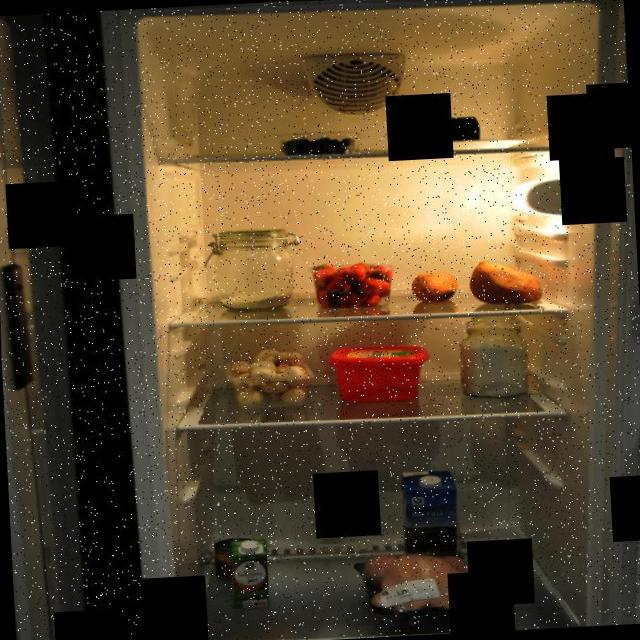Carne pollo: (349, 544, 498, 630)
Champiñones: (220, 344, 316, 407)
Leche: (398, 466, 466, 560)
Mantequilla: (326, 340, 434, 406)
Queso: (424, 111, 484, 148)
